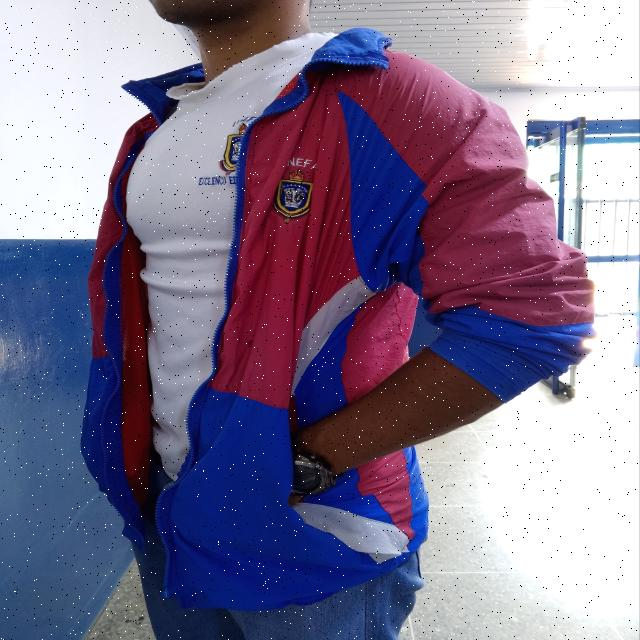chaqueta_unefa: (79, 28, 596, 612)
